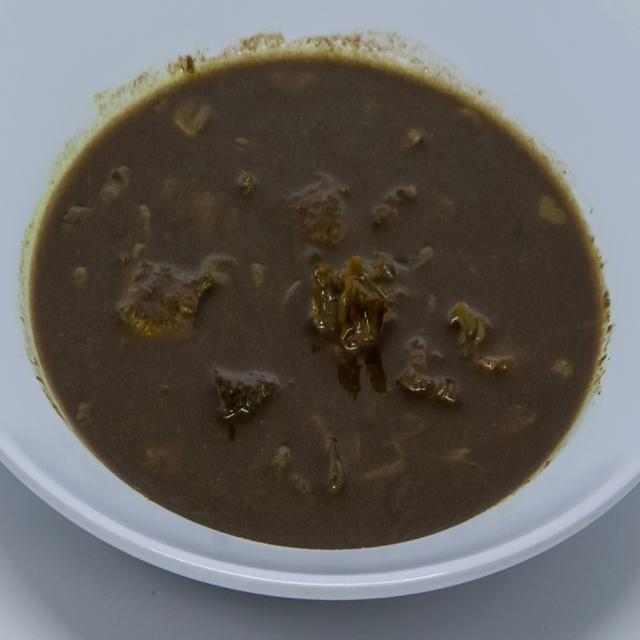Rawon-Surabaya: (21, 35, 624, 561)
